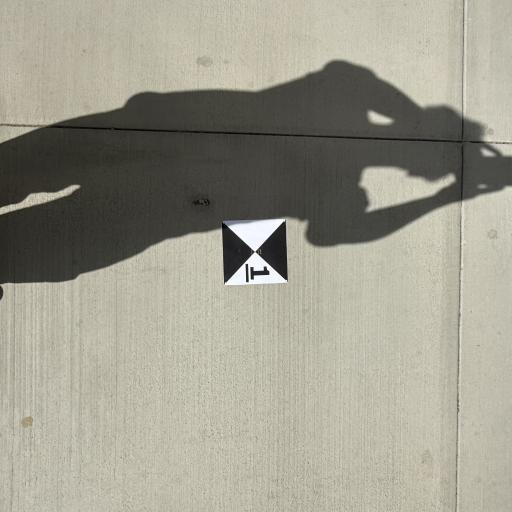target1: (220, 215, 294, 290)
